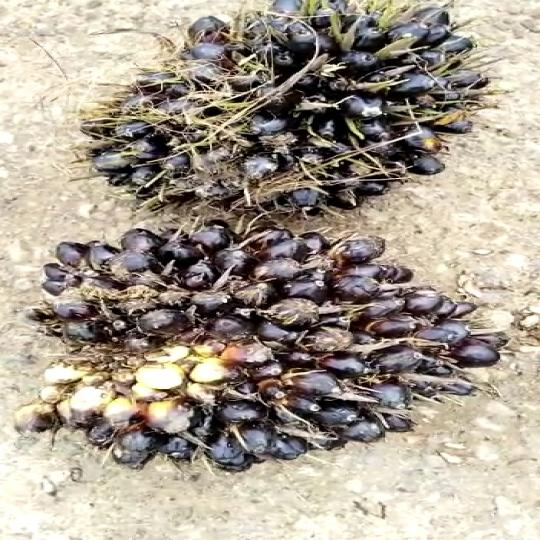mentah: (19, 213, 513, 481), (67, 0, 491, 217)
